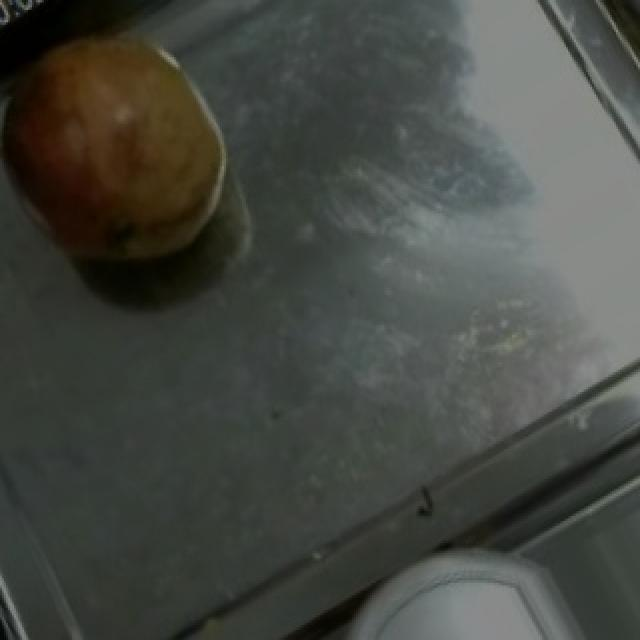fruit: (0, 0, 258, 278)
